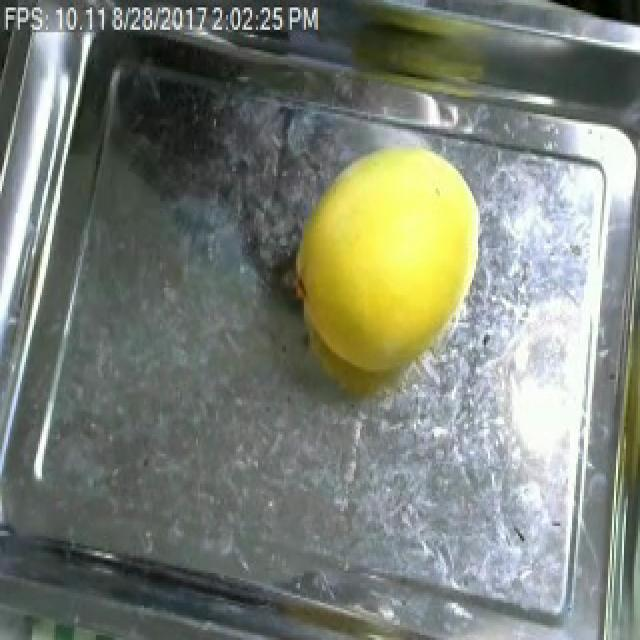fruit: (270, 116, 508, 402)
